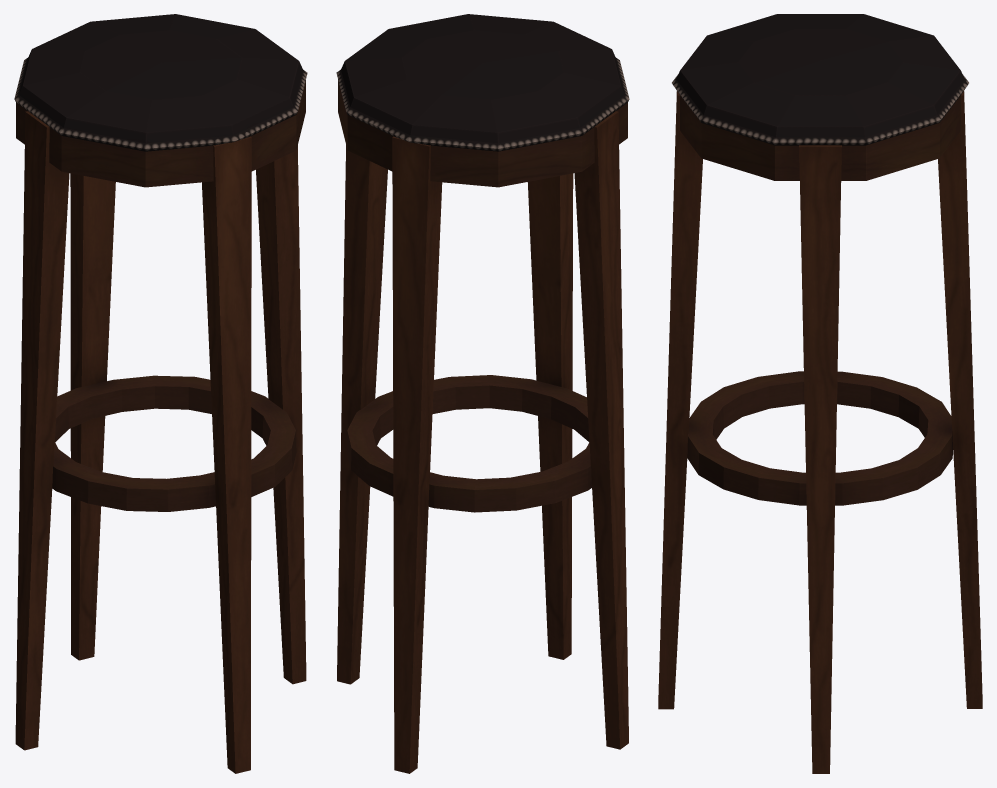
File: BarSeats.gltf
3 renders of one model, left to right at view 1: azimuth 30°, elevation 25°; view 2: azimuth 150°, elevation 25°; view 3: azimuth 270°, elevation 25°, orthographic.
Visible parts, largest first — view 1: node-0; view 2: node-0; view 3: node-0.
Boxes of the visible parts, x1,y1,x2,y2 form: node-0: (14, 14, 307, 773); node-0: (336, 14, 629, 773); node-0: (658, 14, 982, 773).
Size of the model in its own units: 1.88 by 4.13 by 1.88.
1 material, 1 textured.
